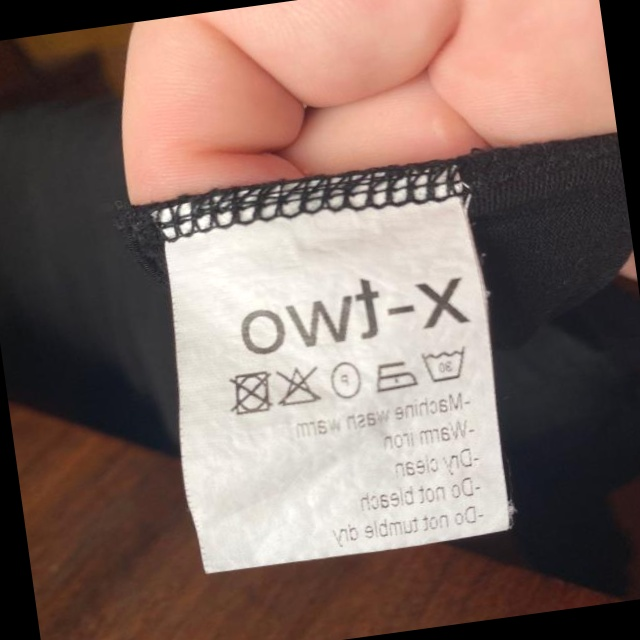30C: (418, 341, 470, 386)
DN_bleach: (272, 360, 322, 411)
DN_tumble_dry: (227, 366, 275, 419)
dry_clean_any_solvent_except_trichloroethylene: (324, 355, 366, 402)
iron_low: (371, 355, 419, 397)
